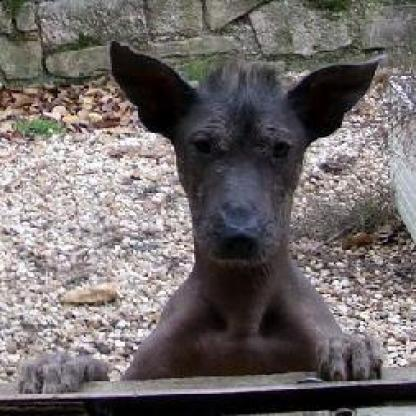Mexican_hairless: (13, 38, 383, 394)
